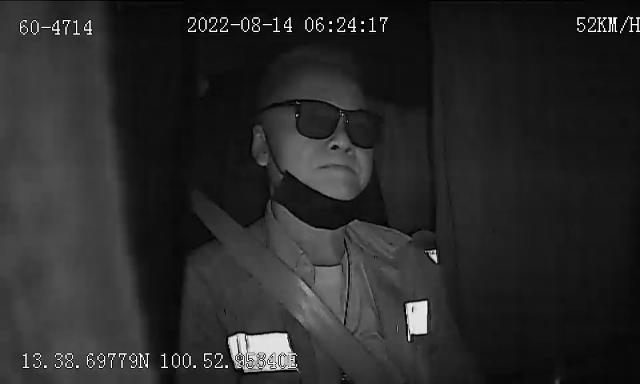Seatbelt: (192, 194, 388, 384)
